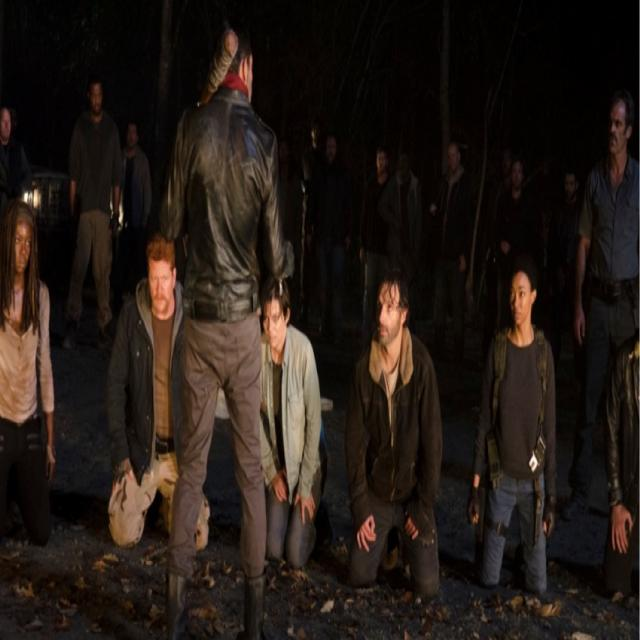body: (157, 23, 290, 640), (102, 224, 214, 553), (339, 256, 446, 597), (464, 256, 559, 598), (572, 81, 640, 508), (259, 268, 335, 572), (0, 196, 57, 552), (59, 71, 127, 356), (429, 132, 479, 400), (598, 322, 640, 605), (546, 165, 589, 400), (307, 130, 353, 336), (358, 146, 400, 356), (493, 153, 541, 329), (296, 116, 333, 326), (385, 140, 425, 270), (115, 115, 153, 245), (0, 102, 34, 214)
